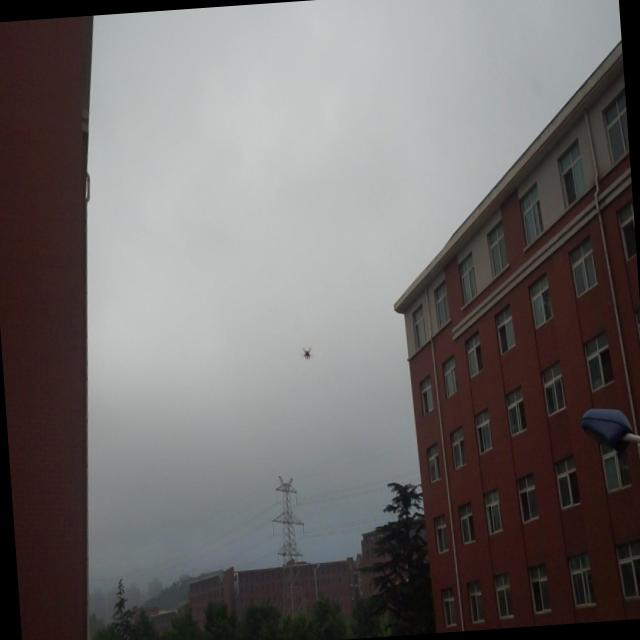drone: (300, 343, 314, 361)
